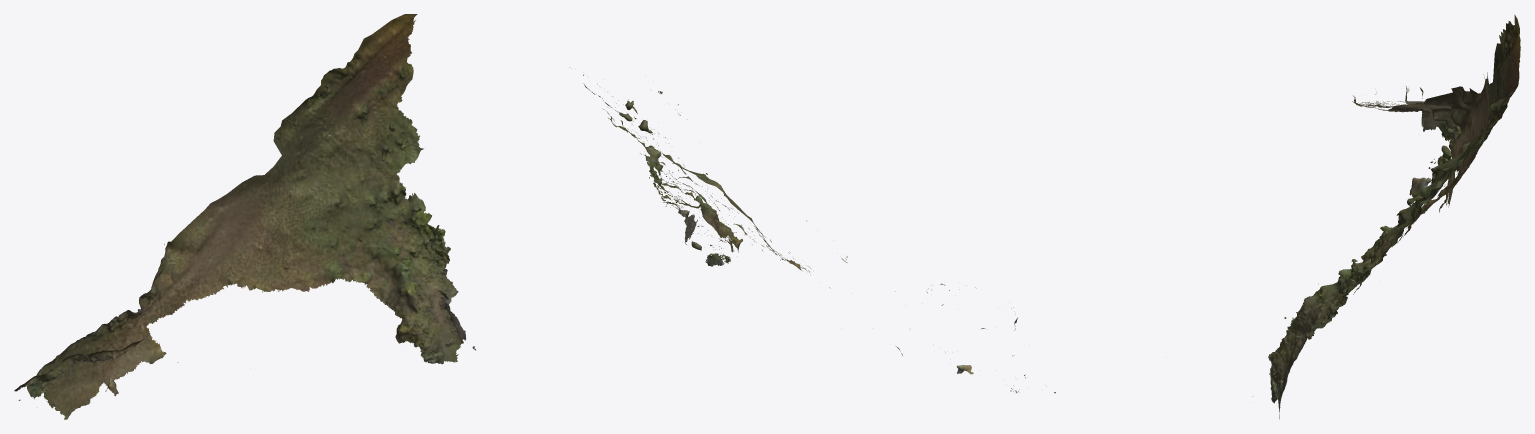
3 renders of one model, left to right at view 1: azimuth 30°, elevation 25°; view 2: azimuth 150°, elevation 25°; view 3: azimuth 270°, elevation 25°, orthographic. The views are drawn at different scales.
Size of the model in its own units: 35.1 by 23 by 20.09.
Materials: 1 (1 with a texture image).
